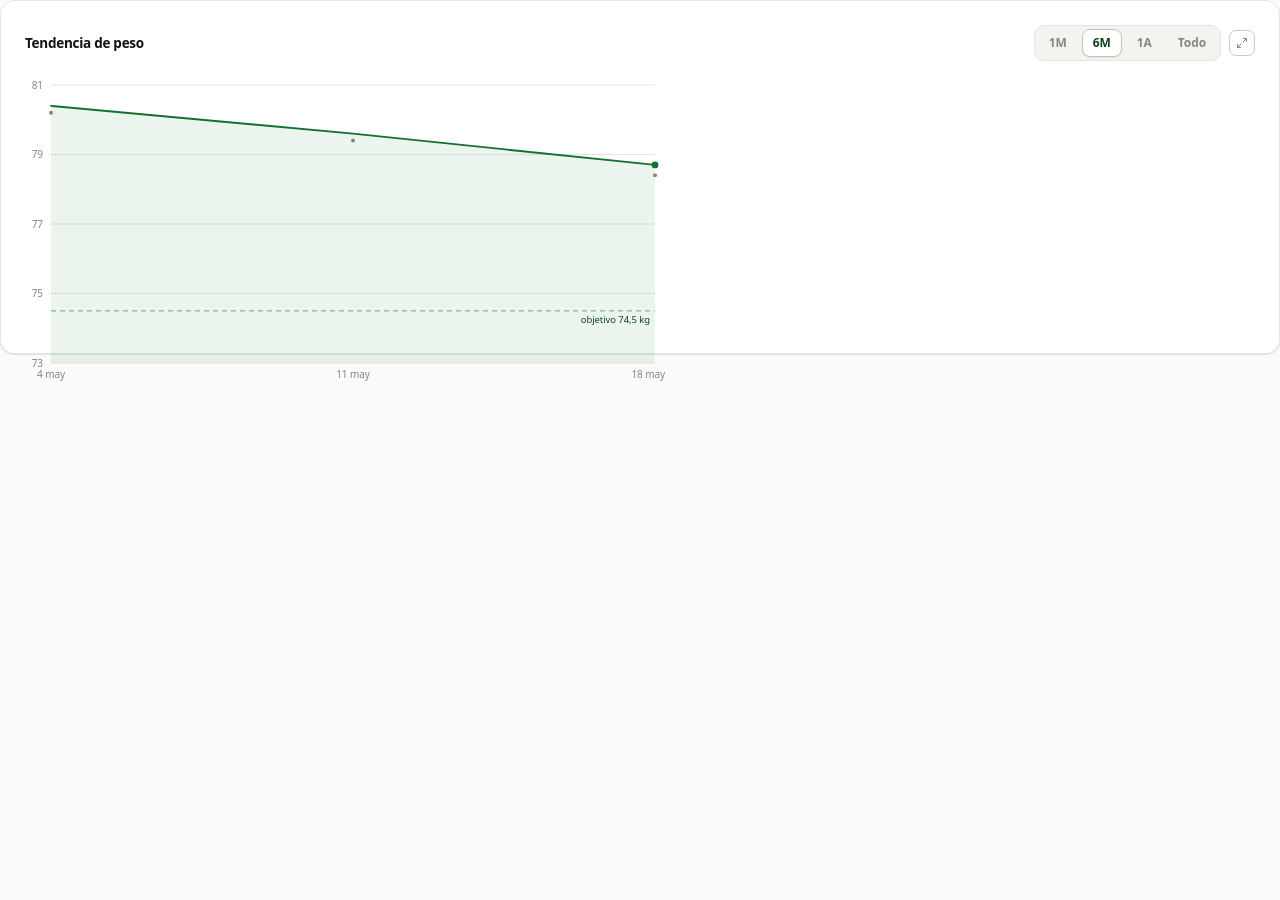
Test case: WeightChart › keeps the range filter and opens the same chart in the expanded sheet
The width and height of the screenshot is (1280, 900).
Check: the element named "Rango temporal" is shown, box x1=1034 y1=25 x2=1221 y2=61
Check: the radio button labelled "6M" is checked, box x1=1082 y1=29 x2=1122 y2=57
Click the button named "Ampliar gráfica".
click(1242, 43)  # box x1=1229 y1=30 x2=1255 y2=56
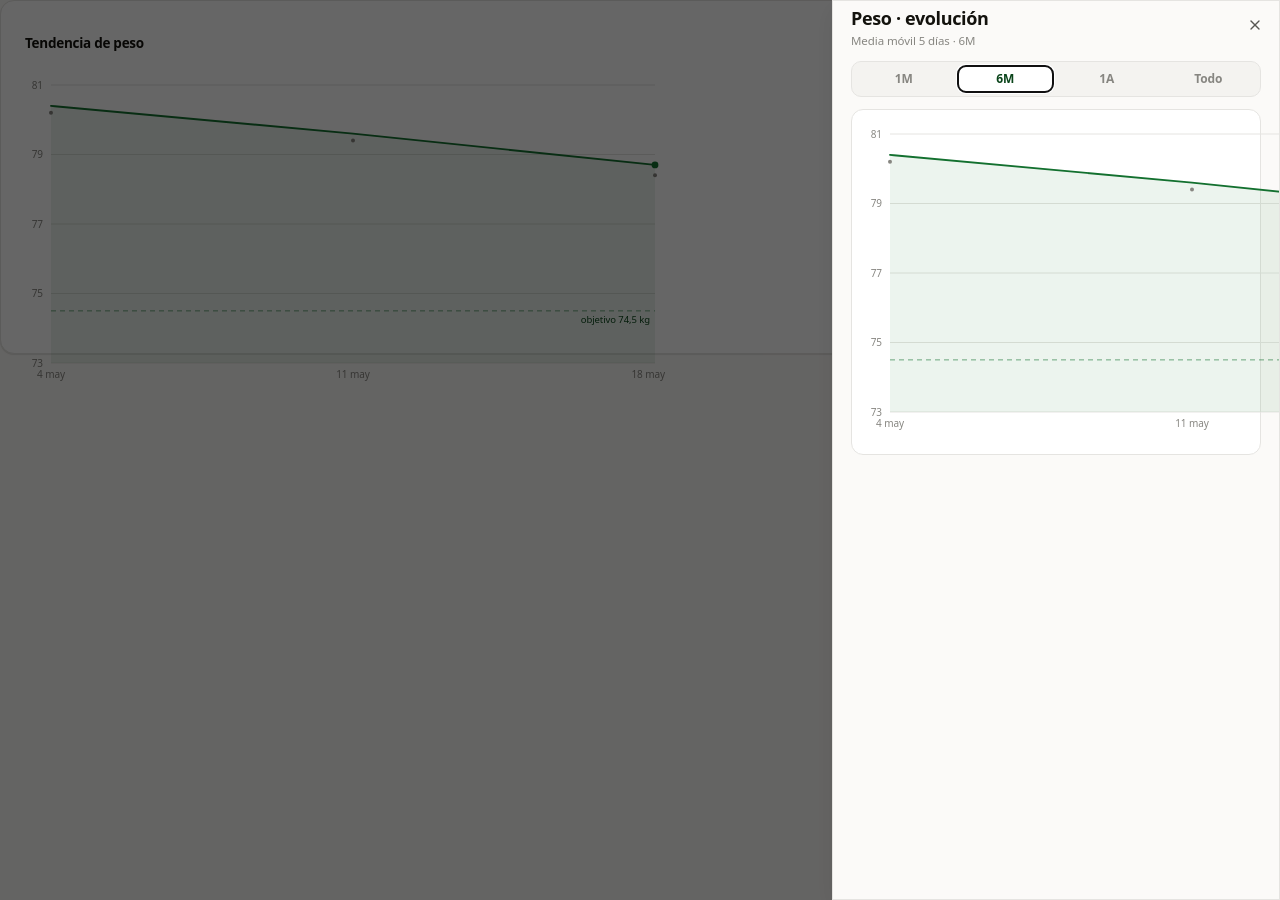
Check: the dialog shows "Peso · evolución", box x1=851 y1=6 x2=988 y2=30
Check: the dialog shows "Media móvil 5 días · 6M", box x1=851 y1=33 x2=976 y2=48
